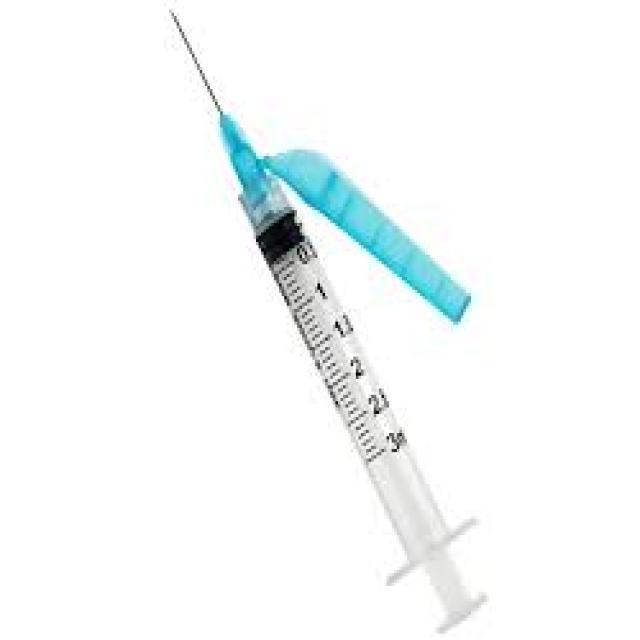syringe: (166, 6, 489, 634)
